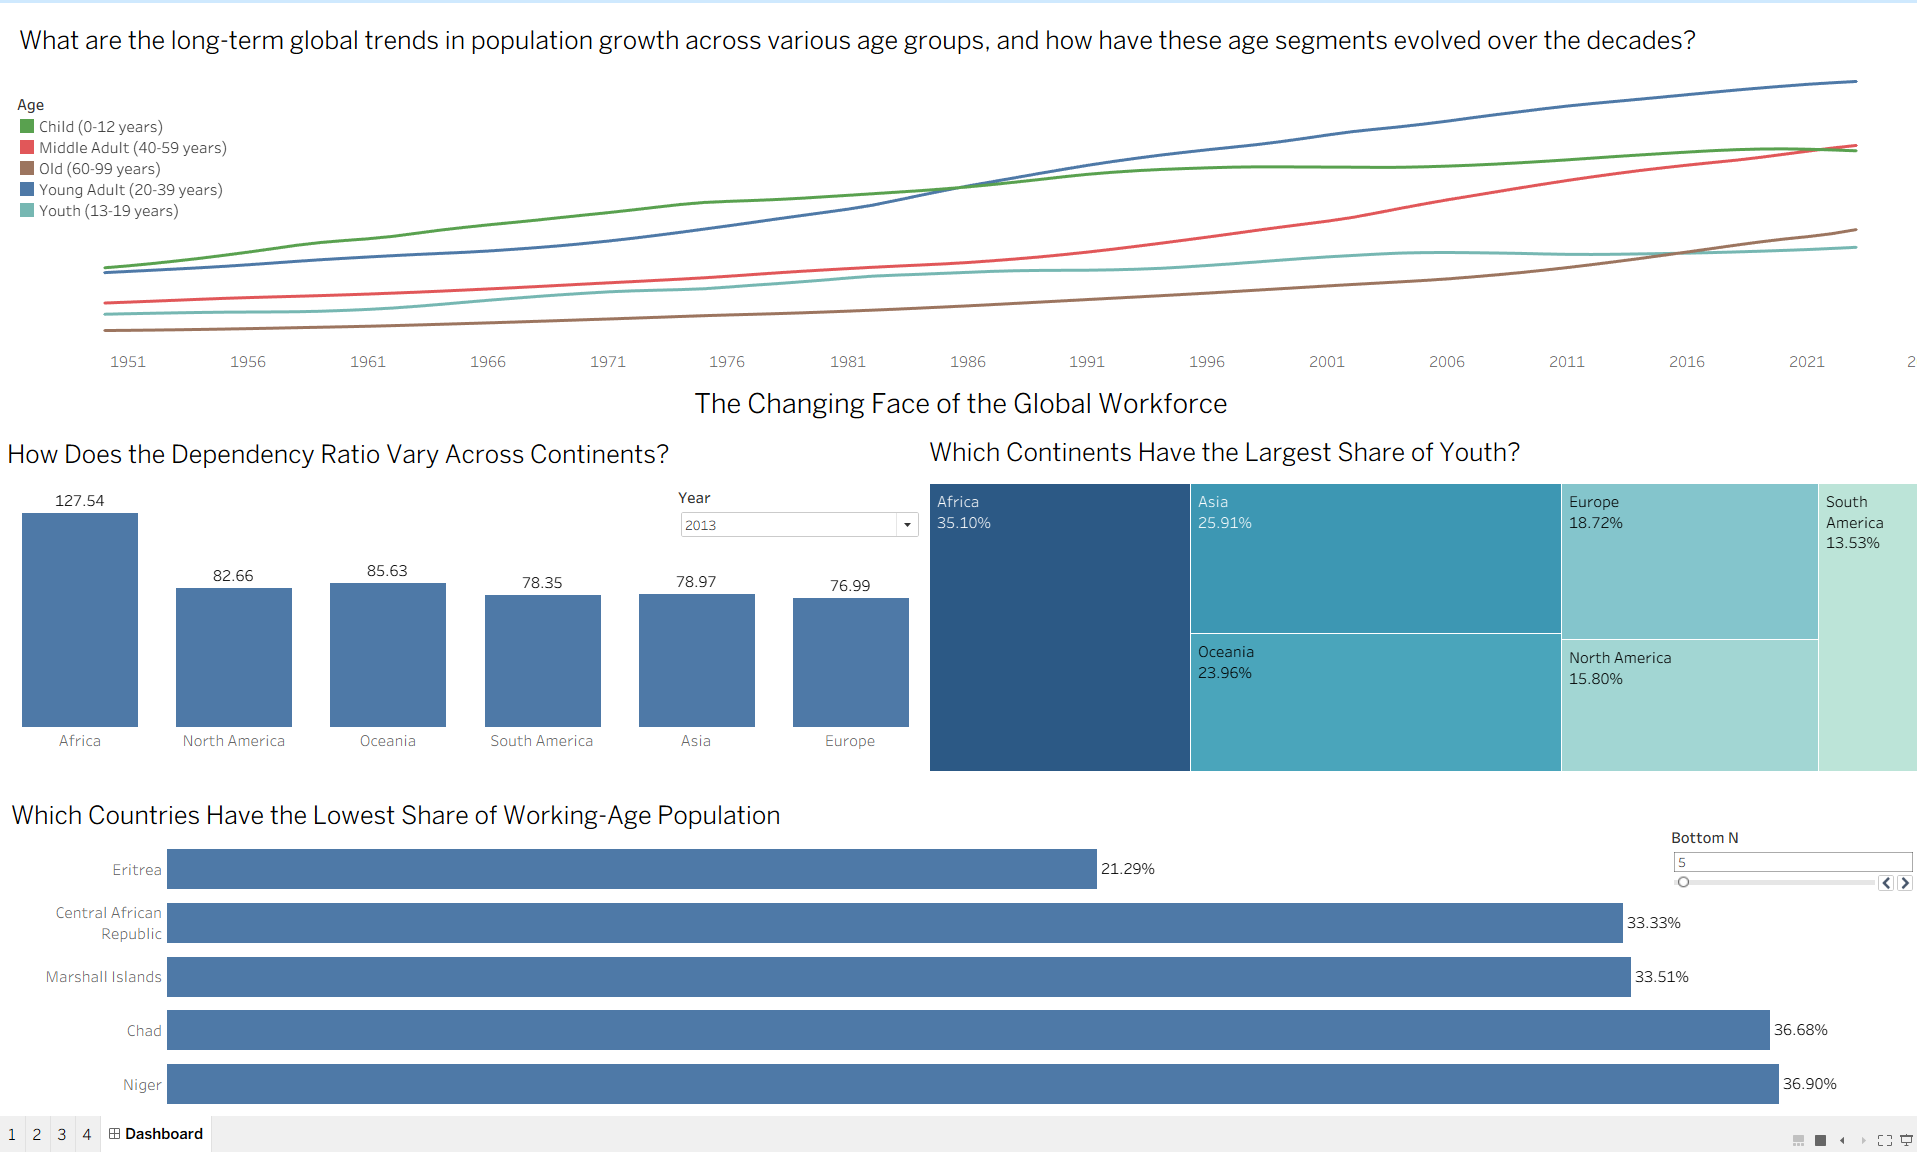

What the dashboard file says about the page in this screenshot:
{"tool":"tableau","page":{"name":"Dashboard","canvas":[1000,1000],"units":"permille","ordinal":0},"visuals":[{"type":"legend","title":"1","param":"[federated.1osxzf50yjonql12a6jwz1ggp9y7].[Age_class (group)]","box":[8.7,82.1,140,142.5]},{"type":"text","box":[0.8,338.2,999.2,43.5]},{"type":"worksheet","title":"3","mark":"Automatic","box":[481.8,385.3,519.8,309.2]},{"type":"worksheet","title":"2","mark":"Bar","rows":["Year","Calculation_58828292837531650"],"cols":["Calculation_1963358353449508867"],"box":[1.7,387.7,481.7,306.8]},{"type":"filter","title":"2","param":"[federated.1osxzf50yjonql12a6jwz1ggp9y7].[yr:Year (age population):ok]","box":[353,434.8,127,53.1]},{"type":"worksheet","title":"4","mark":"Bar","rows":["Name"],"cols":["Calculation_97812576073236482"],"box":[3.5,711.4,997.4,283.8]},{"type":"parameter","param":"[Parameters].[Parameter 1]","box":[870.4,740.3,127.8,80.9]}]}

Visuals, with their boxes on the dashboard's canvas, which has no fixed pixel size, in thousandths of its width and height (x1, y1, x2, y2). These are canvas units, not pixel positions in the 1917x1152 screenshot, which may show the page scaled, cropped or inside an application window:
"1" legend: bbox=(9, 82, 149, 225)
text: bbox=(1, 338, 1000, 382)
"3" worksheet: bbox=(482, 385, 1002, 694)
"2" worksheet (Bar marks): bbox=(2, 388, 483, 694)
"2" filter: bbox=(353, 435, 480, 488)
"4" worksheet (Bar marks): bbox=(4, 711, 1001, 995)
parameter: bbox=(870, 740, 998, 821)
